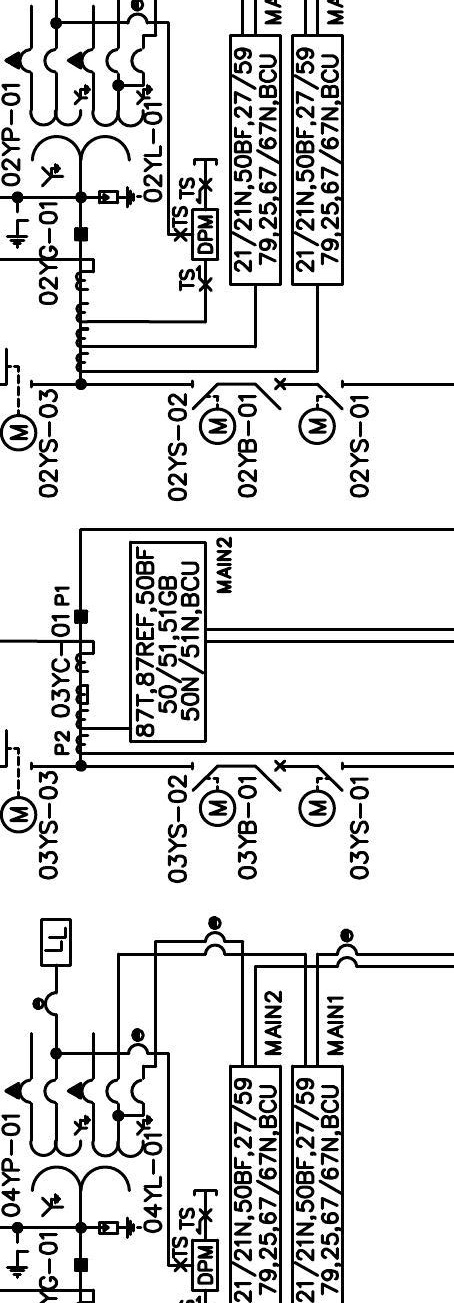115_1way_ds_w_motor: (297, 761, 345, 828), (190, 379, 237, 447), (298, 379, 345, 447), (191, 761, 237, 828)
115_breaker: (255, 377, 287, 411), (255, 759, 287, 793)
115_gs: (5, 1240, 30, 1281), (5, 209, 30, 250)
115_la: (97, 185, 143, 210), (98, 1216, 143, 1240)
115_vt_3p: (3, 1077, 154, 1219), (3, 47, 153, 188)
DPM: (191, 1239, 220, 1293), (191, 209, 219, 262)
LL: (39, 918, 73, 968)
